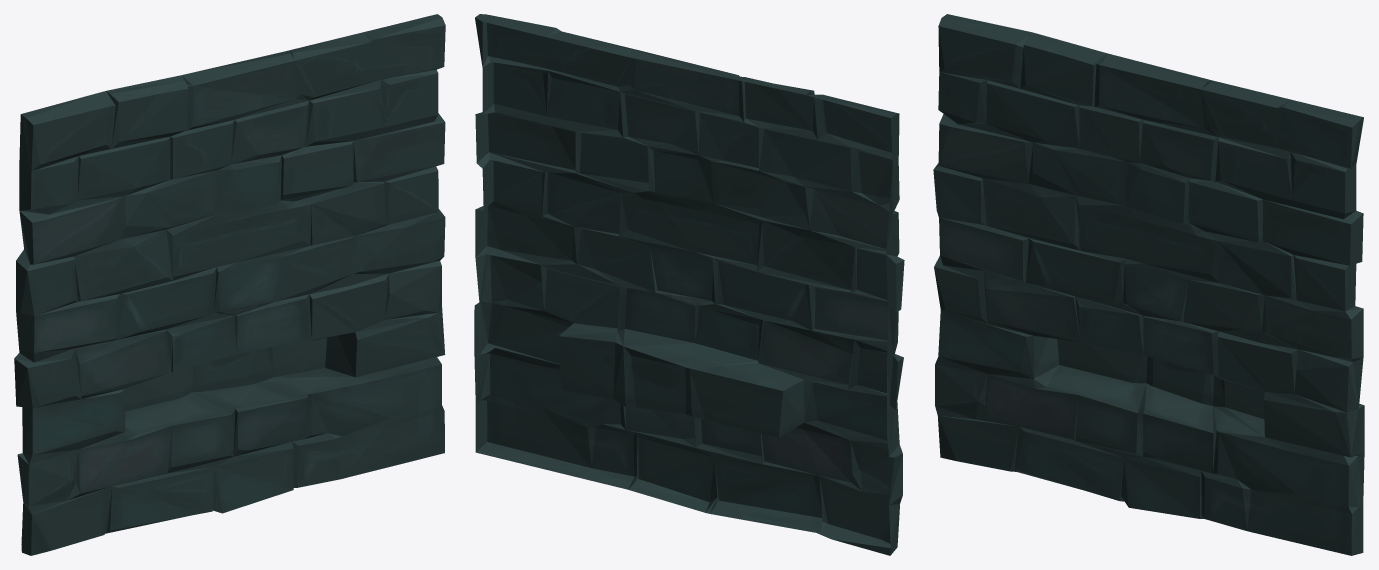
Rendered from WallCulled002.fbx.
The picture shows the model from 3 angles, left to right: view 1: azimuth 30°, elevation 25°; view 2: azimuth 150°, elevation 25°; view 3: azimuth 330°, elevation 25°; orthographic projection.
Parts seen in each view (by area): view 1: SM_Env_Wall_Culled_02; view 2: SM_Env_Wall_Culled_02; view 3: SM_Env_Wall_Culled_02.
Part boxes in pixels (x1,y1,x2,y2): SM_Env_Wall_Culled_02: (14,14,445,555); SM_Env_Wall_Culled_02: (474,14,904,555); SM_Env_Wall_Culled_02: (933,14,1364,555).
Bounding box in the file's own units: 5.18 × 5.17 × 0.5258.
1 material, 1 textured.
